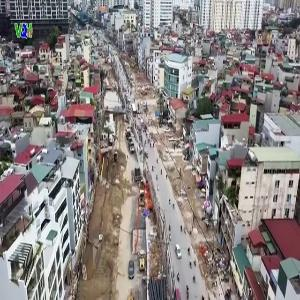drone: (29, 104, 97, 172)
